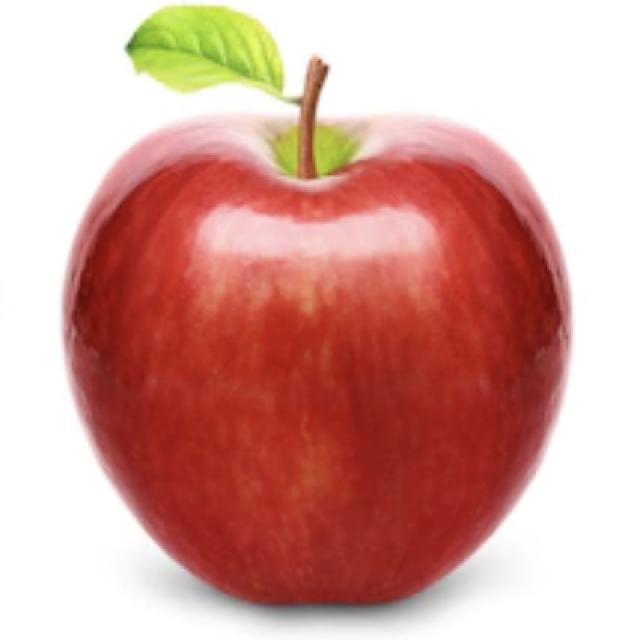Fresh Apple: (99, 105, 544, 600)
